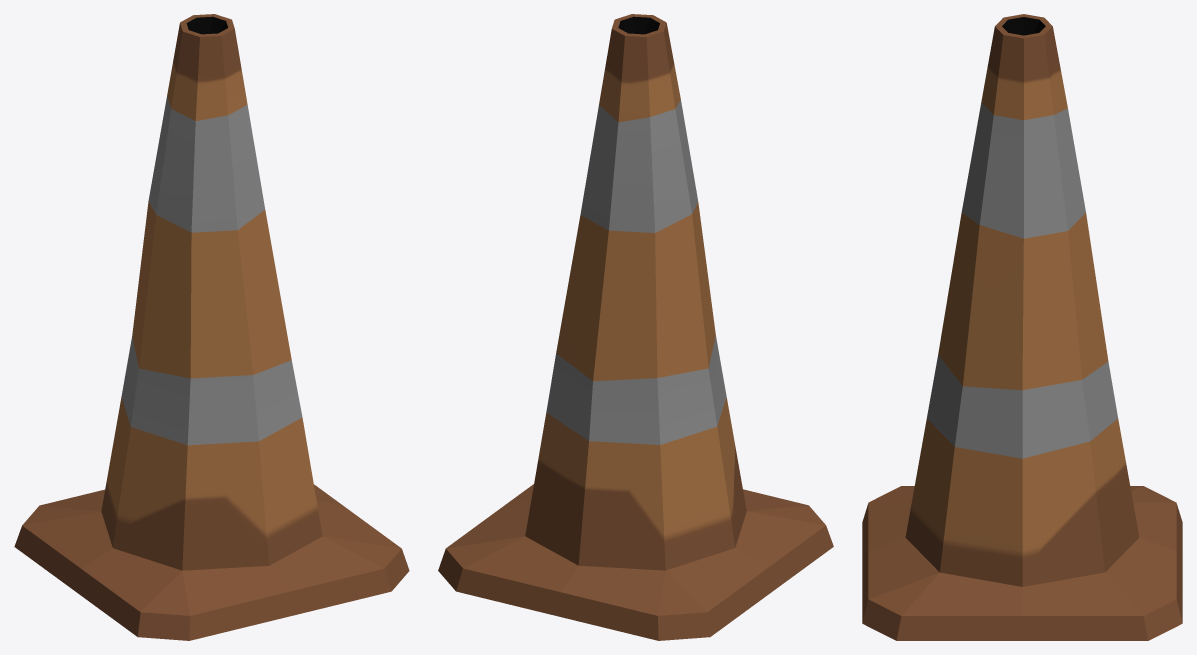
The model's file is SM_Prop_Cone_02_967.obj.
The picture shows the model from 3 angles, left to right: view 1: azimuth 30°, elevation 25°; view 2: azimuth 150°, elevation 25°; view 3: azimuth 270°, elevation 25°; orthographic projection. The views are drawn at different scales.
Visible parts, largest first — view 1: SM_Prop_Cone_02_0; view 2: SM_Prop_Cone_02_0; view 3: SM_Prop_Cone_02_0.
Boxes of the visible parts, box(x1,y1,x2,y2) form: SM_Prop_Cone_02_0: box(14, 14, 409, 640); SM_Prop_Cone_02_0: box(438, 14, 833, 640); SM_Prop_Cone_02_0: box(862, 14, 1182, 640).
Bounding box in the file's own units: 0.5251 × 0.9851 × 0.5251.
Materials: 1 (1 with a texture image).
